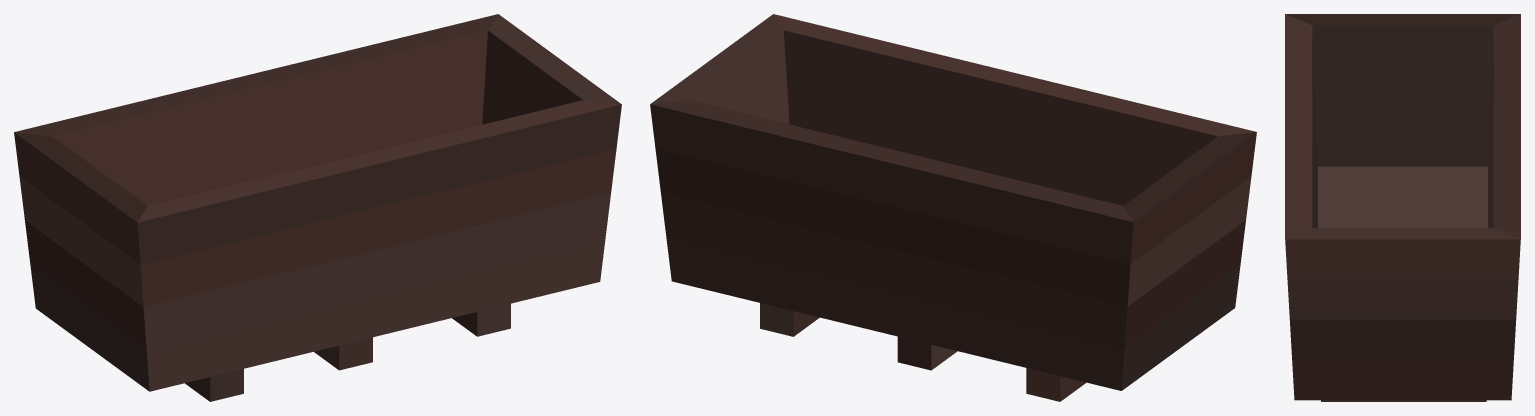
Rendered from Decor_FlowerBox.fbx.
The picture shows the model from 3 angles, left to right: view 1: azimuth 30°, elevation 25°; view 2: azimuth 150°, elevation 25°; view 3: azimuth 270°, elevation 25°; orthographic projection. The views are drawn at different scales.
Visible parts, largest first — view 1: Decor_FlowerBox; view 2: Decor_FlowerBox; view 3: Decor_FlowerBox.
Part boxes in pixels (x1,y1,x2,y2): Decor_FlowerBox: [14, 14, 621, 401]; Decor_FlowerBox: [650, 14, 1256, 401]; Decor_FlowerBox: [1285, 14, 1520, 401].
Bounding box in the file's own units: 215 × 91.36 × 95.
